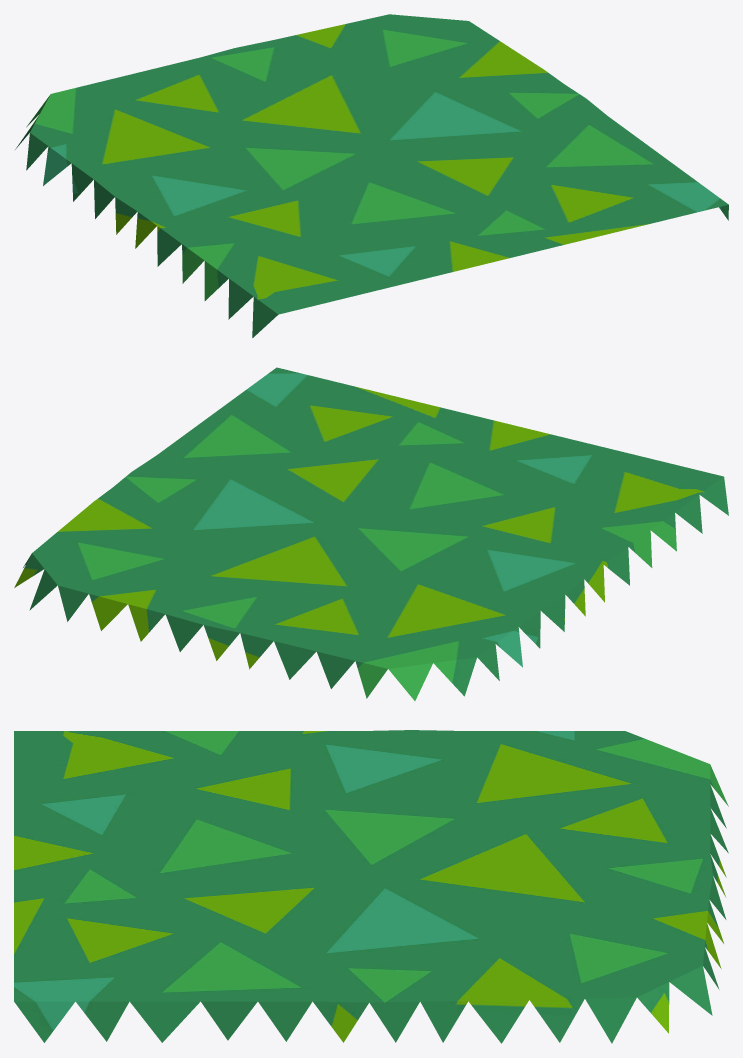
Rendered from Grass Thin Cap.fbx.
3 views of the same model, one above another, from view 1: azimuth 30°, elevation 25°; view 2: azimuth 150°, elevation 25°; view 3: azimuth 270°, elevation 25° (orthographic). The views are drawn at different scales.
Visible parts, largest first — view 1: Grass.Thin.Cap; view 2: Grass.Thin.Cap; view 3: Grass.Thin.Cap.
Part boxes in pixels (x1=…): Grass.Thin.Cap: x1=15, y1=14, x2=728, y2=337; Grass.Thin.Cap: x1=14, y1=367, x2=728, y2=700; Grass.Thin.Cap: x1=14, y1=730, x2=728, y2=1043.
Size of the model in its own units: 1.81 by 0.104 by 1.9.
